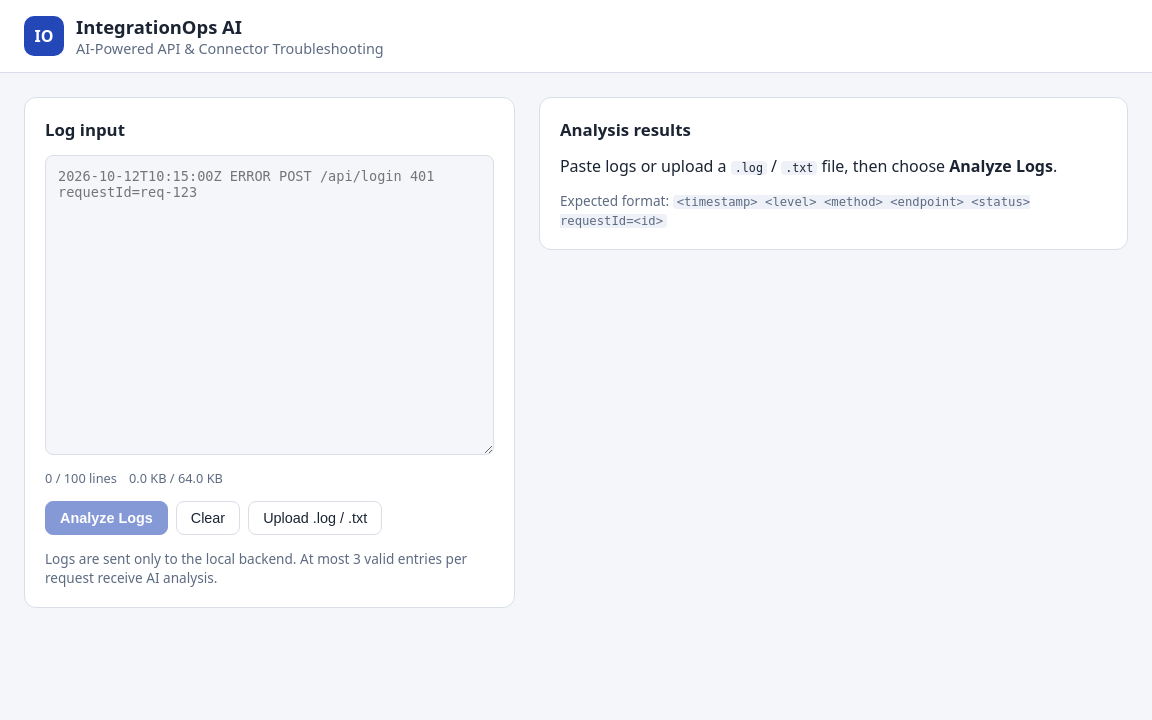
App › shows partial analysis and skipped entries clearly
This screenshot has width=1152, height=720.
Step 1. Click the text box named "log lines" → point(269, 305), box [45,155,494,455]
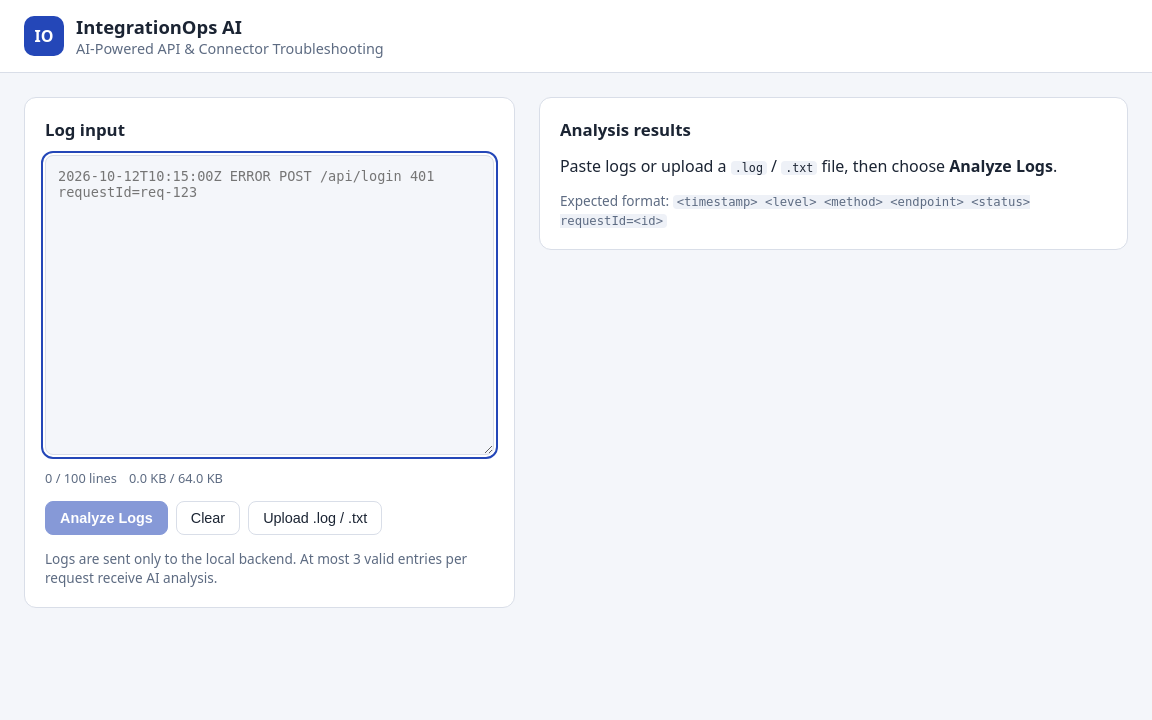
Step 2. Type keys "2026-10-12T10:15:00Z ERROR POST /api/login 401 requestId=req-123"
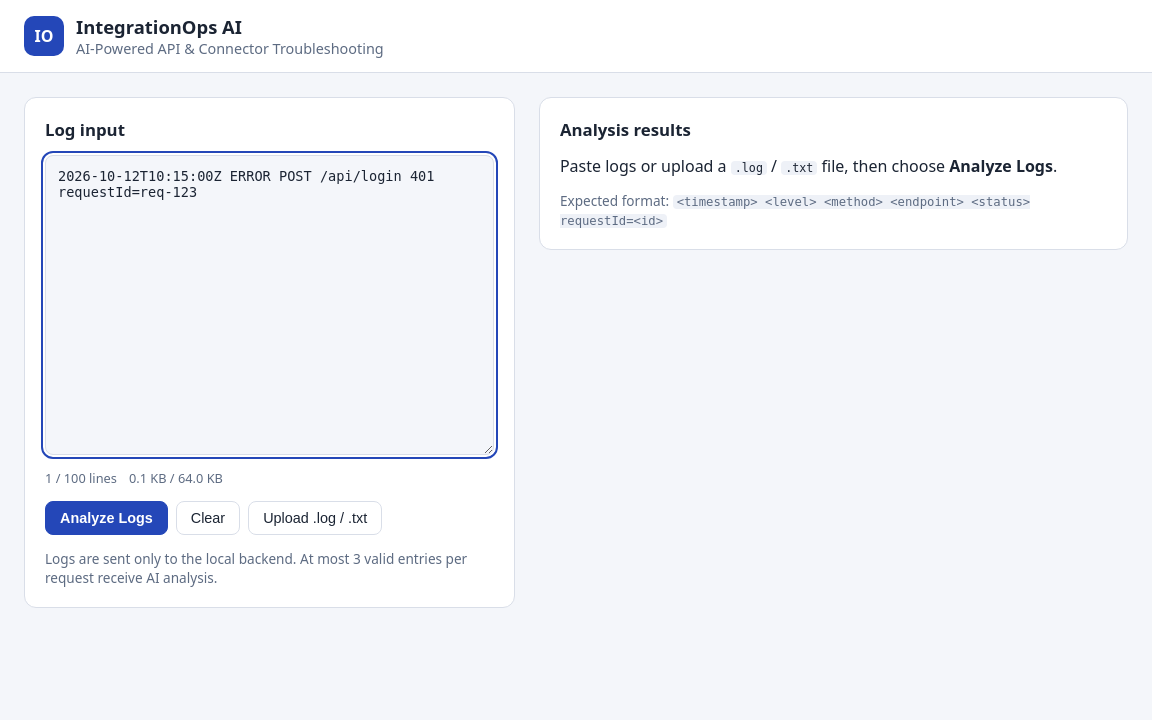
Step 3. Click the button "Analyze Logs" → point(106, 518), box [45,501,168,535]
(page scrolled)
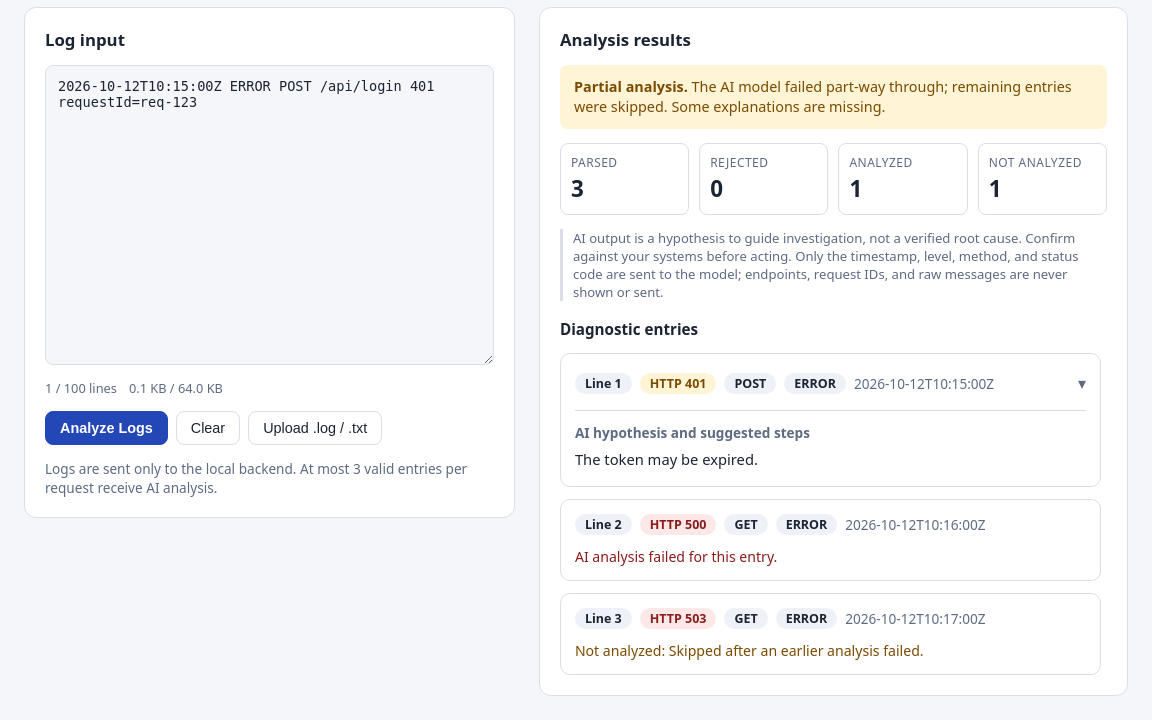
Expected: the text "Partial analysis." is shown, [574,77,688,96]
Expected: the text "AI analysis failed for this entry." is shown, [575,547,777,566]
Expected: the text "Not analyzed: Skipped after an earlier analysis failed." is shown, [575,641,924,660]
